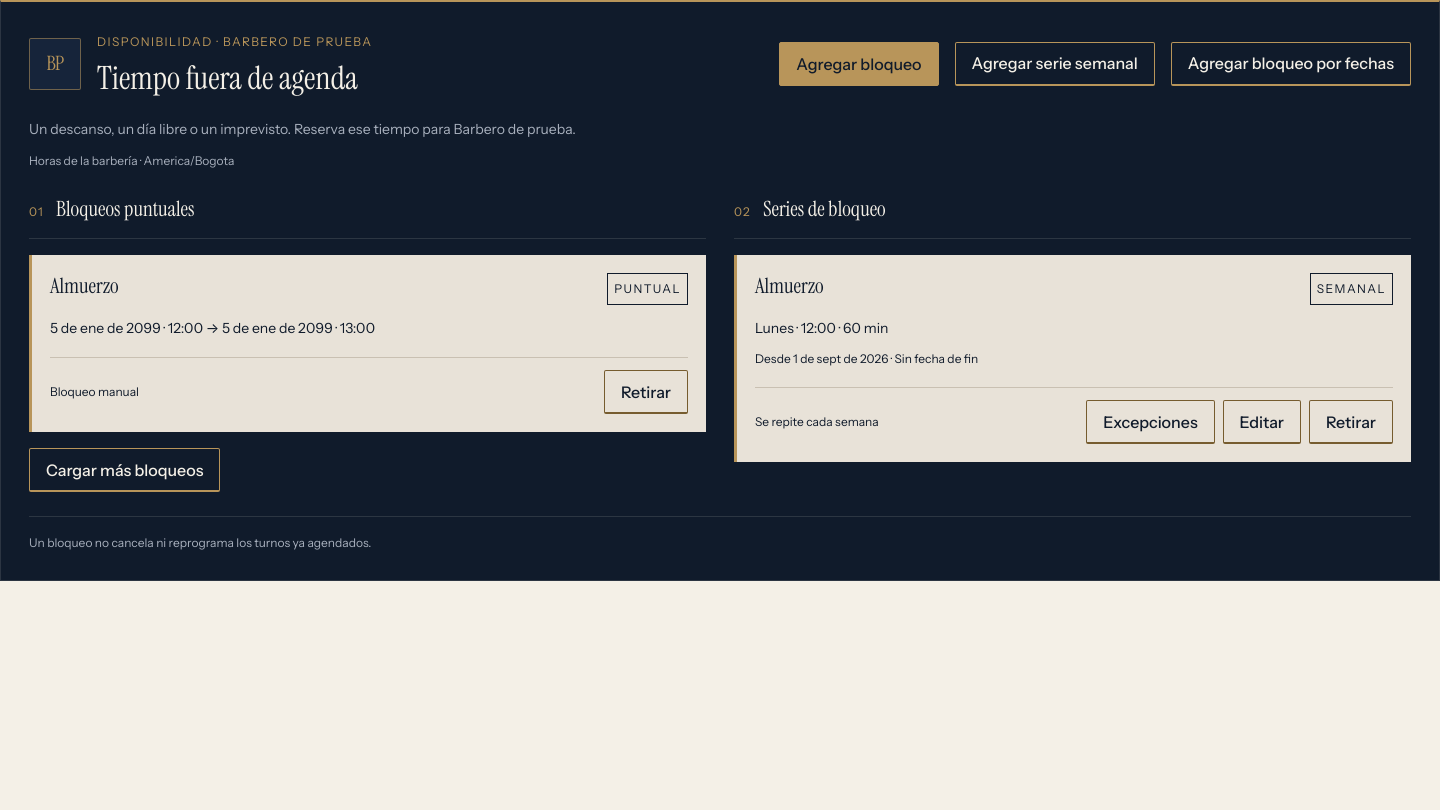
Scenario: BarberBlocksPanel · avisos emergentes (DEC-095) › loads the next page of blocks without duplicating a known record
This screenshot has width=1440, height=810.
Click the button "Cargar más bloqueos" at point(125, 470), box [29,448,220,492]
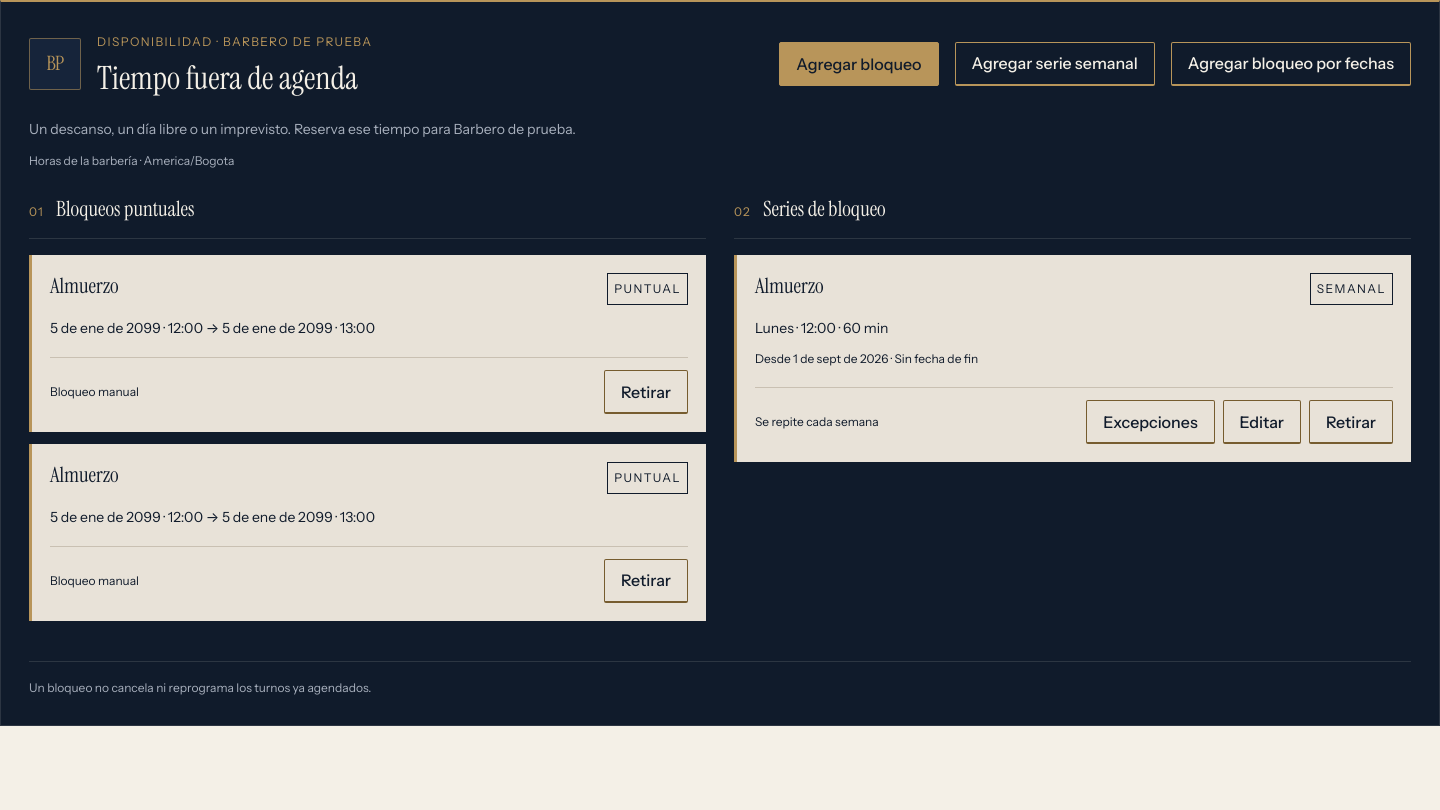
Result: the number of list items with class "blocks-panel__record" is 3 at [29,255,706,432]; [29,444,706,621]; [734,255,1411,462]
